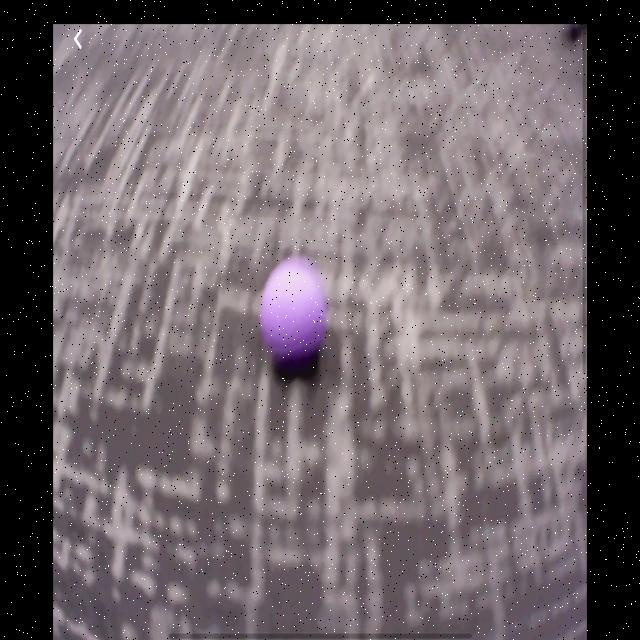ball: (259, 263, 329, 371)
